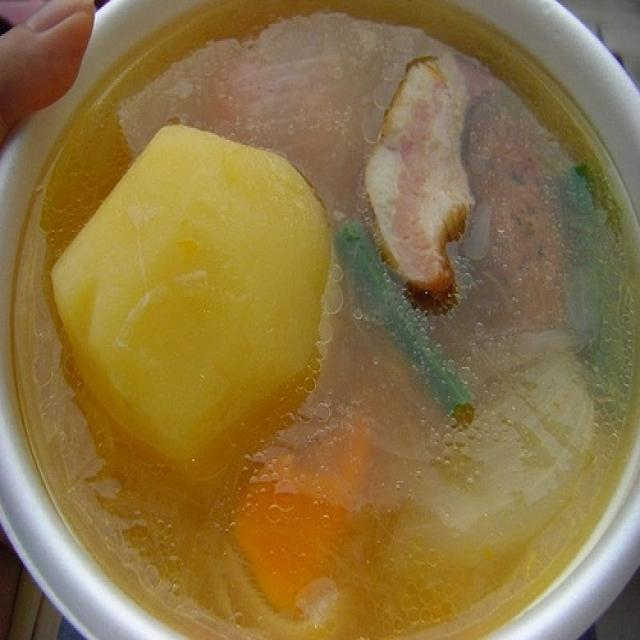汤锅炖物: (19, 17, 627, 618)
